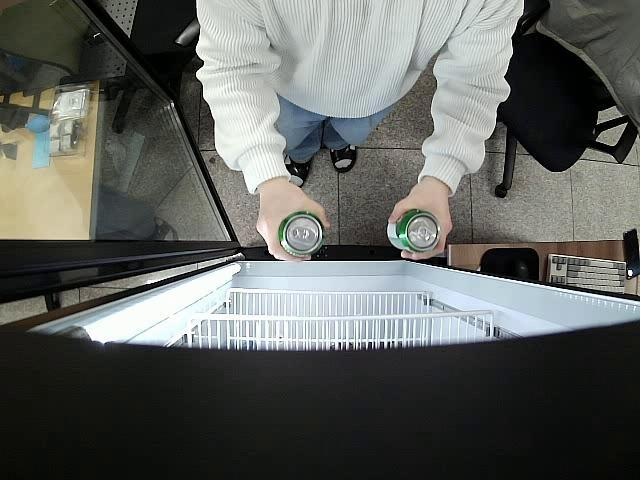12_chilsungCider: (386, 209, 439, 254), (280, 213, 326, 258)
